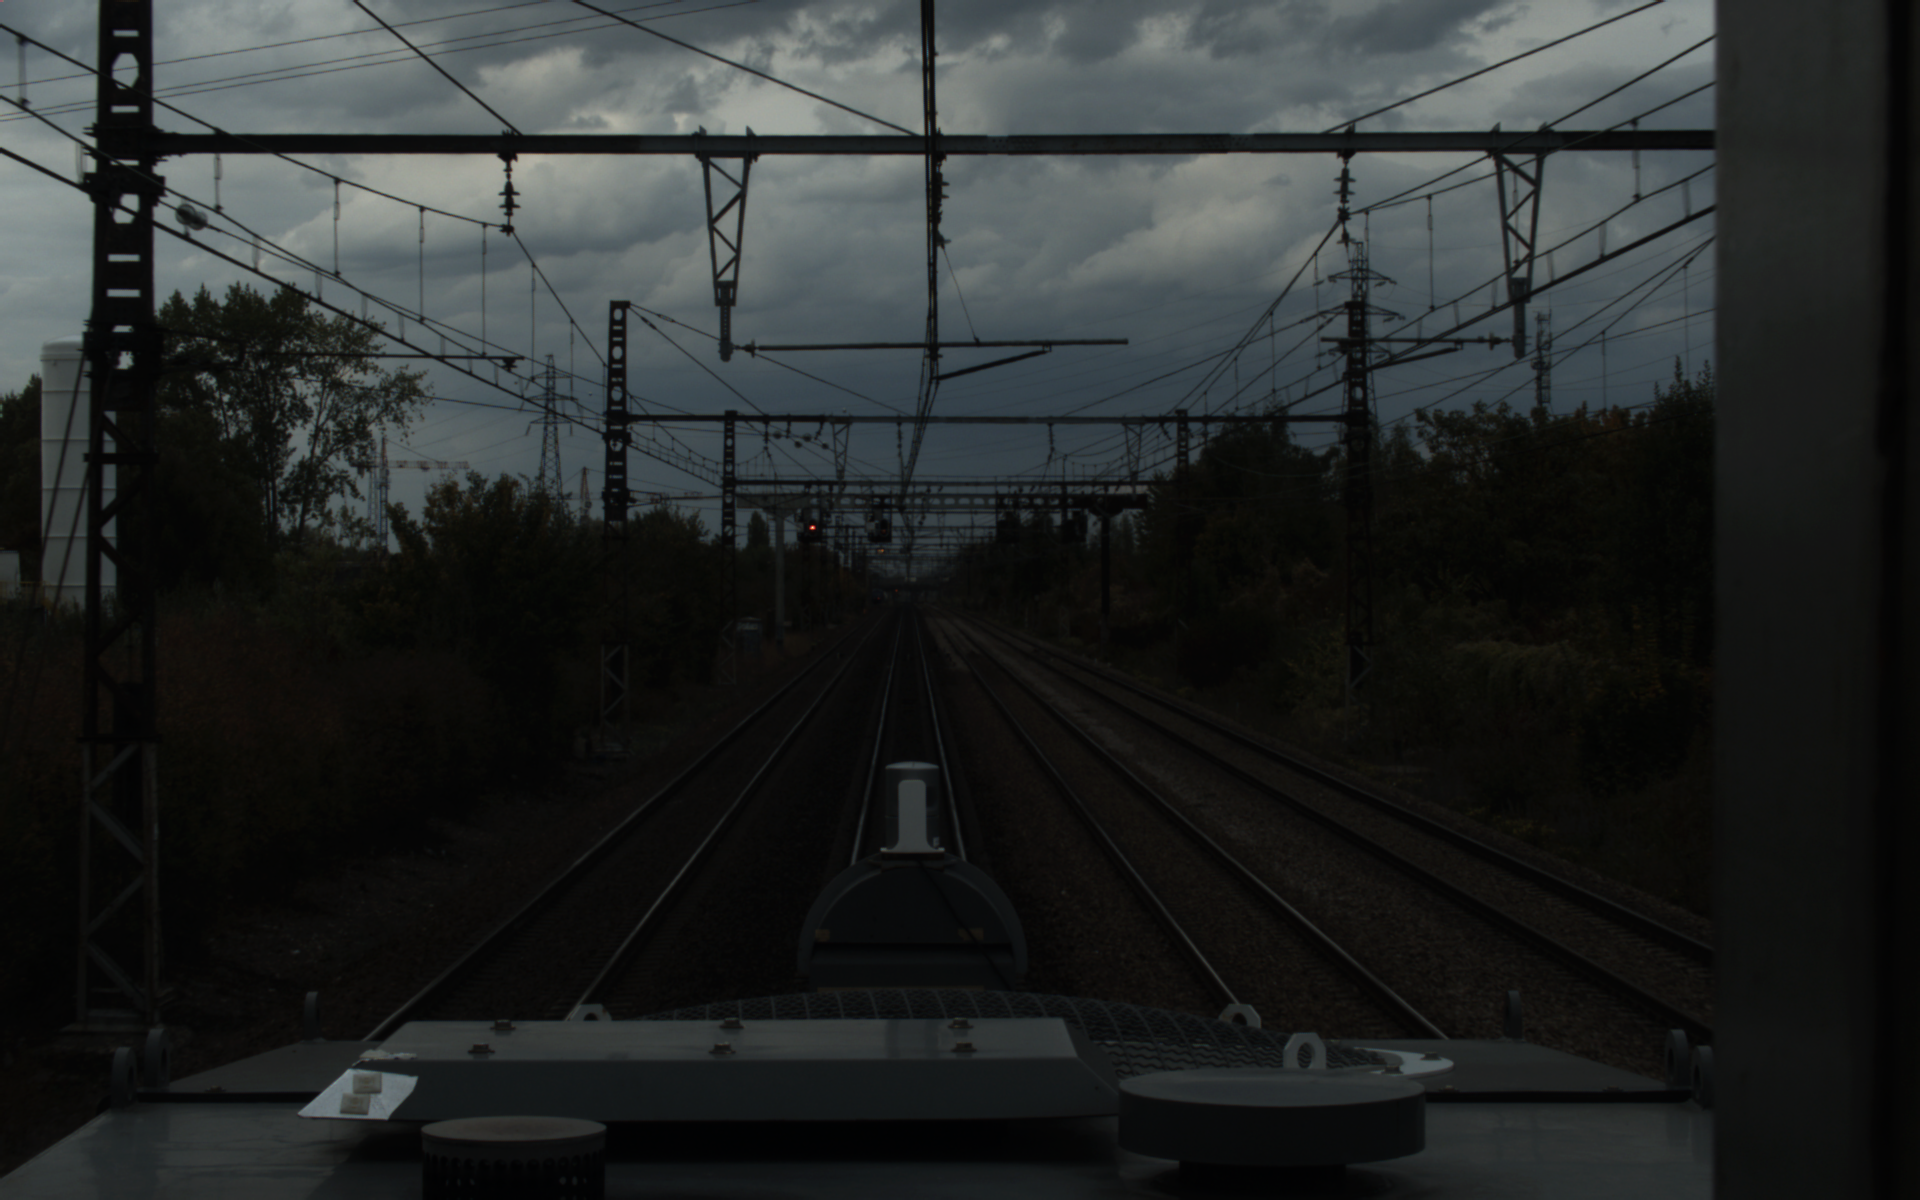Blinking: (804, 516, 818, 536), (876, 517, 890, 536)
